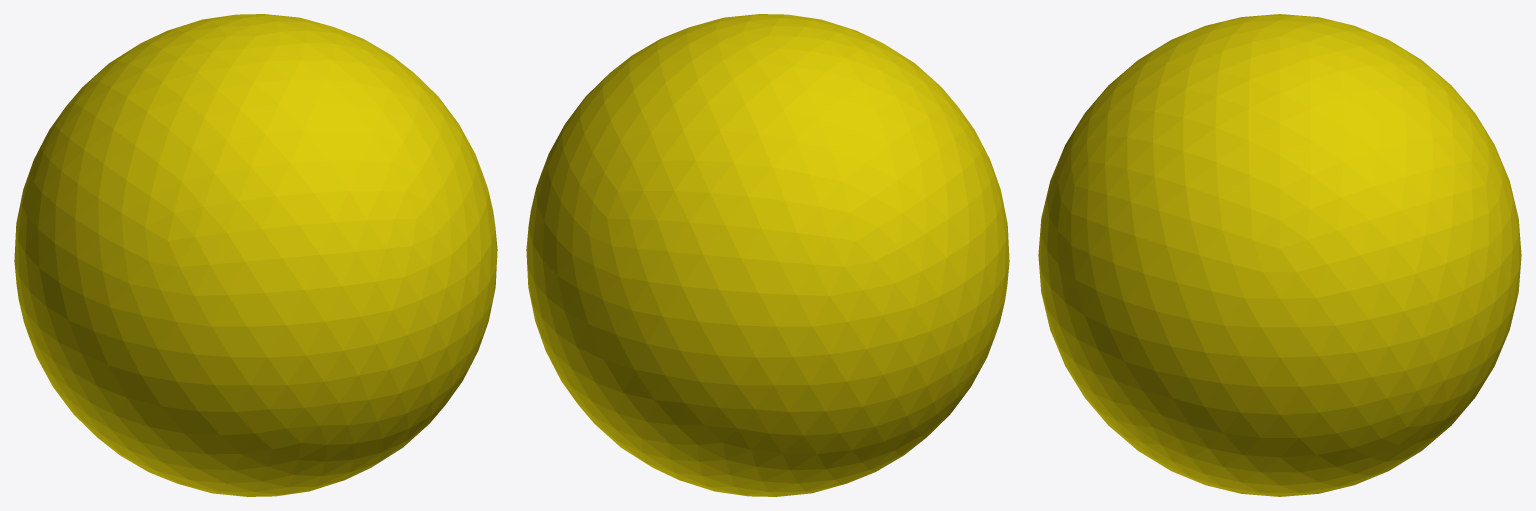
The model's file is boll.obj.
3 views of the same model, side by side, from view 1: azimuth 30°, elevation 25°; view 2: azimuth 150°, elevation 25°; view 3: azimuth 270°, elevation 25° (orthographic).
Parts seen in each view (by area): view 1: ICO球_ICO球.001; view 2: ICO球_ICO球.001; view 3: ICO球_ICO球.001.
Part boxes in pixels (bbox=[...]): ICO球_ICO球.001: bbox=[14, 14, 497, 496]; ICO球_ICO球.001: bbox=[526, 14, 1009, 496]; ICO球_ICO球.001: bbox=[1038, 14, 1521, 496].
Bounding box in the file's own units: 2 × 2 × 2.
1 material, 1 textured.
